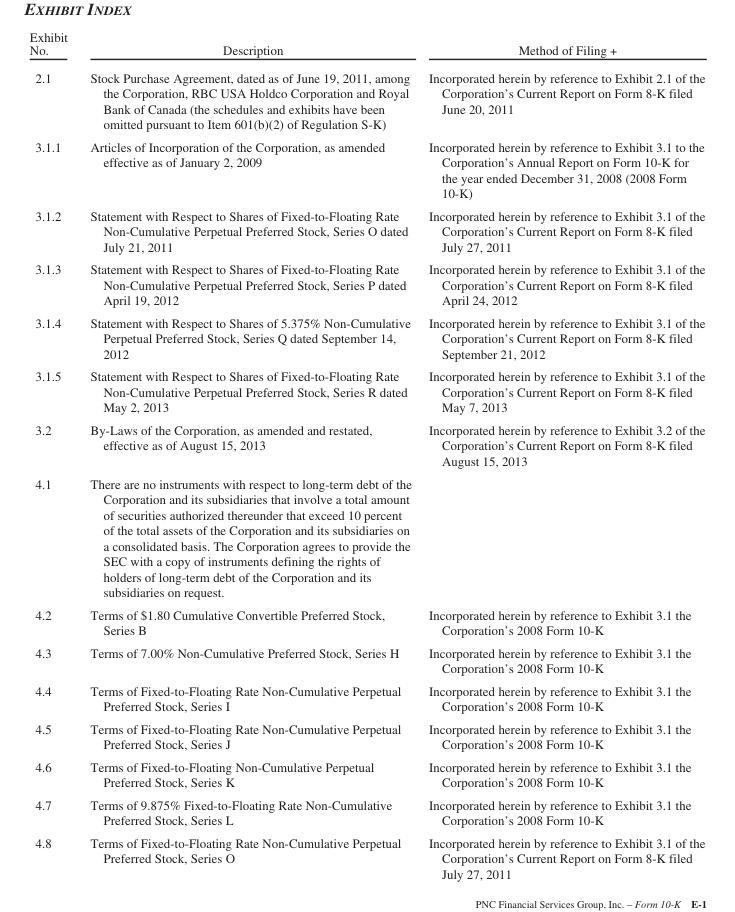table: (28, 29, 704, 880)
table column: (78, 29, 419, 880), (419, 29, 704, 880), (28, 29, 78, 880)
table column header: (28, 29, 704, 63)
table row: (28, 471, 704, 602), (28, 63, 704, 135), (28, 135, 704, 204), (28, 257, 704, 311), (28, 364, 704, 418), (28, 204, 704, 257), (28, 311, 704, 364), (28, 418, 704, 471), (28, 831, 704, 880), (28, 640, 704, 679), (28, 602, 704, 640), (28, 679, 704, 717), (28, 717, 704, 755), (28, 755, 704, 793), (28, 793, 704, 831), (28, 29, 704, 63)
